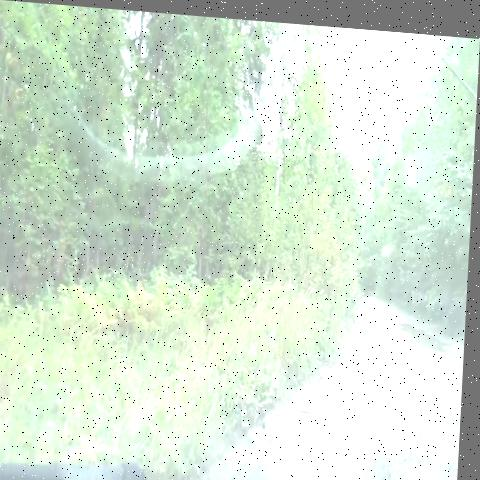pothole: (391, 429, 464, 480), (401, 294, 458, 355), (317, 369, 375, 416), (417, 386, 465, 426), (362, 311, 388, 331), (368, 326, 390, 345)
